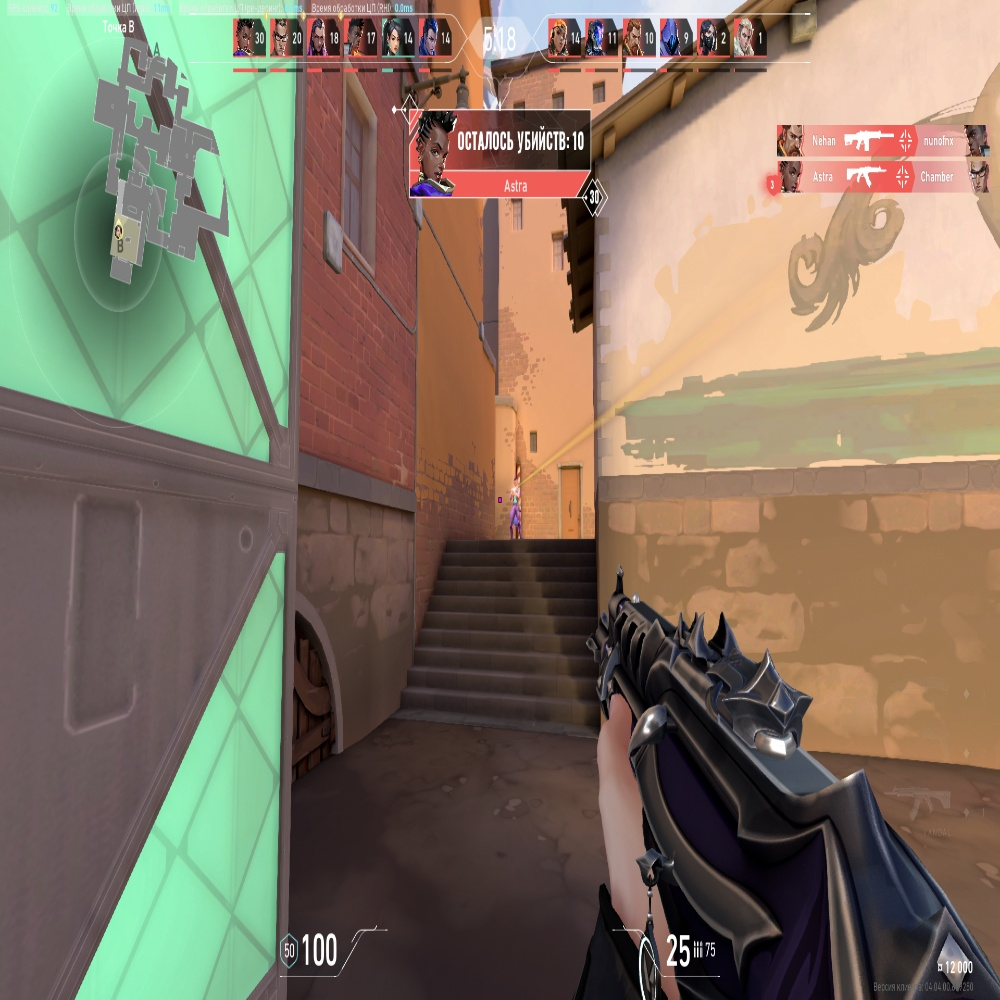body: (511, 489, 520, 507)
head: (513, 478, 518, 486)
